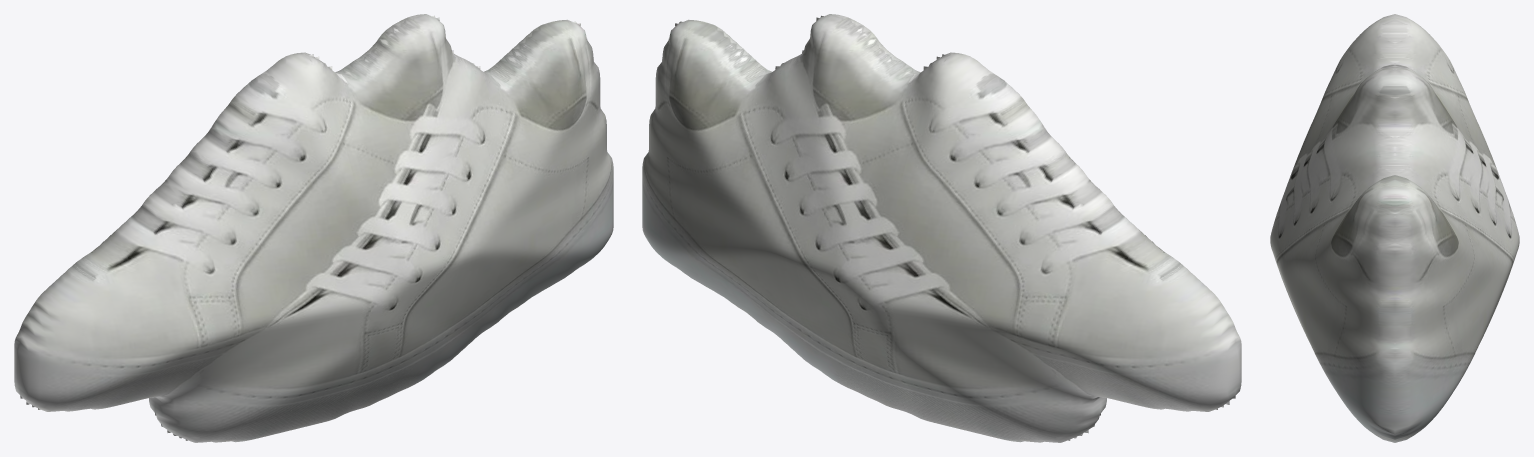
The model's file is prod-ae-cloud-platform-sneakers.glb.
3 renders of one model, left to right at view 1: azimuth 30°, elevation 25°; view 2: azimuth 150°, elevation 25°; view 3: azimuth 270°, elevation 25°, orthographic. The views are drawn at different scales.
Parts seen in each view (by area): view 1: prod-ae-cloud-platform-sneakers_standalone; view 2: prod-ae-cloud-platform-sneakers_standalone; view 3: prod-ae-cloud-platform-sneakers_standalone.
Boxes of the visible parts, left/top/right/bottom form: prod-ae-cloud-platform-sneakers_standalone: left=14, top=14, right=613, bottom=442; prod-ae-cloud-platform-sneakers_standalone: left=642, top=14, right=1241, bottom=442; prod-ae-cloud-platform-sneakers_standalone: left=1270, top=14, right=1519, bottom=442.
Size of the model in its own units: 0.3149 by 0.1902 by 0.1107.
Materials: 1 (1 with a texture image).
